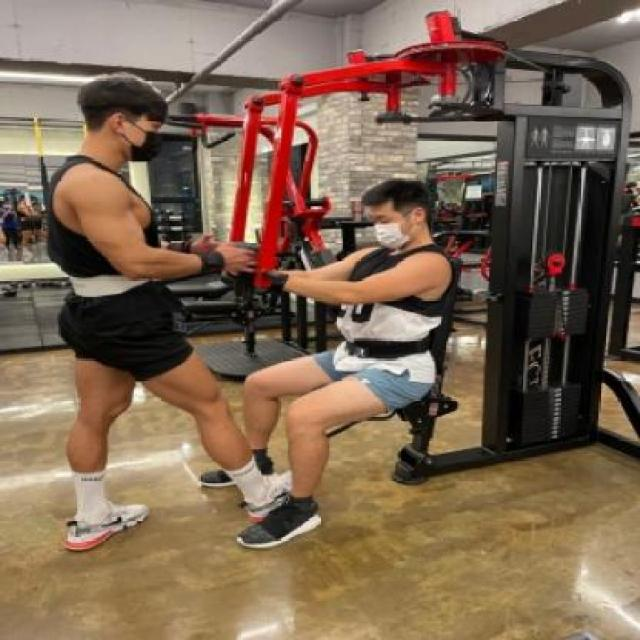chest fly machine: (184, 0, 640, 581)
